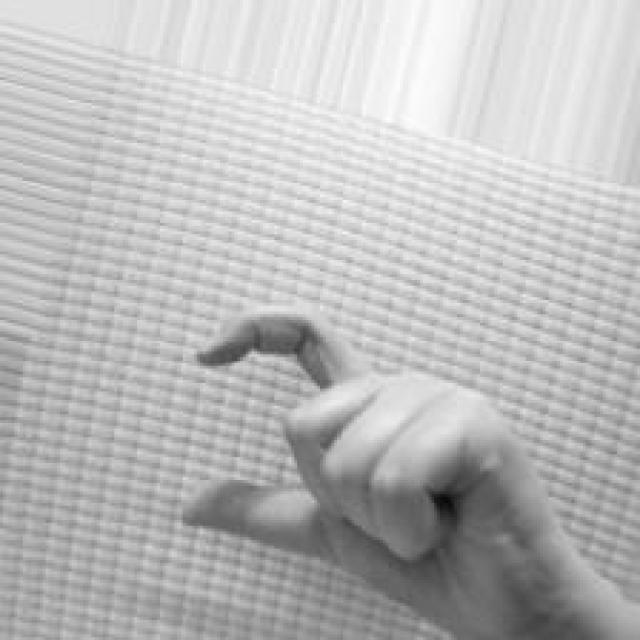C: (174, 303, 586, 640)
